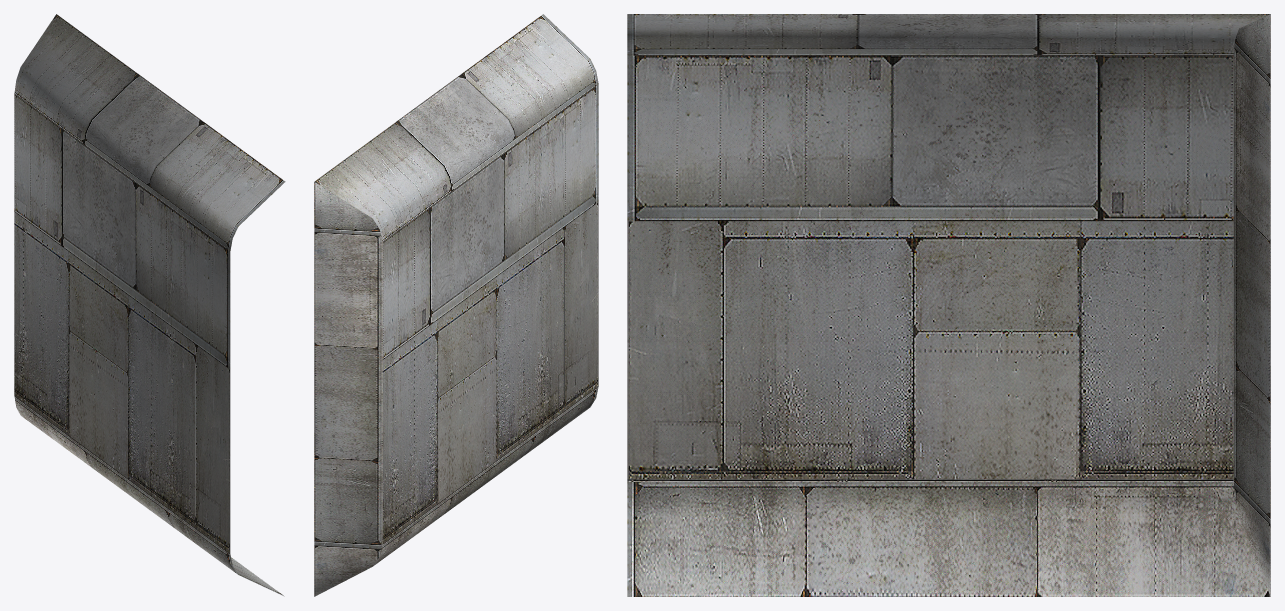
Rendered from Wall_F_Big4mts_00.fbx.
The picture shows the model from 3 angles, left to right: view 1: azimuth 30°, elevation 25°; view 2: azimuth 150°, elevation 25°; view 3: azimuth 270°, elevation 25°; orthographic projection. The views are drawn at different scales.
Parts seen in each view (by area): view 1: Wall_F_Big4mts_00; view 2: Wall_F_Big4mts_00; view 3: Wall_F_Big4mts_00.
Boxes of the visible parts, x1=… form: Wall_F_Big4mts_00: x1=14, y1=14, x2=285, y2=596; Wall_F_Big4mts_00: x1=314, y1=14, x2=598, y2=596; Wall_F_Big4mts_00: x1=627, y1=14, x2=1270, y2=596.
Size of the model in its own units: 139 by 1000 by 1000.
